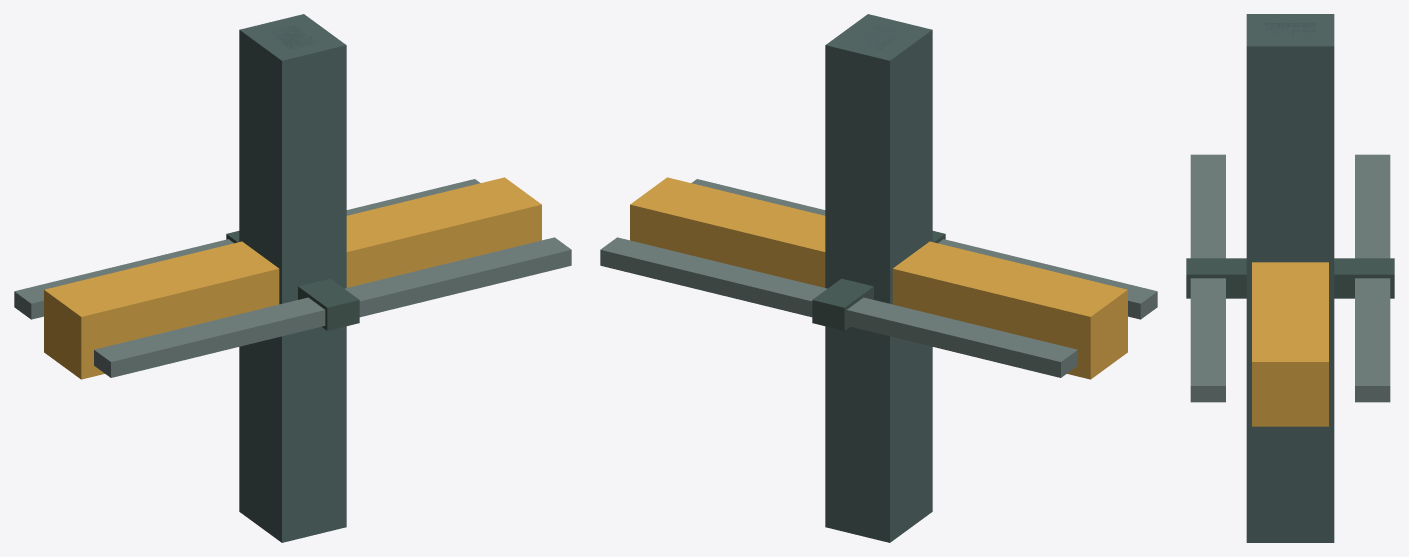
Rendered from WarehouseRecoveryRig.glb.
3 views of the same model, side by side, from view 1: azimuth 30°, elevation 25°; view 2: azimuth 150°, elevation 25°; view 3: azimuth 270°, elevation 25° (orthographic). The views are drawn at different scales.
Parts seen in each view (by area): view 1: Box.106, Box.107, Box.110 (×2), Box.109; view 2: Box.106, Box.107, Box.110 (×2), Box.109; view 3: Box.106, Box.110 (×2), Box.107, Box.109, Box.108.
Boxes of the visible parts, x1,y1,x2,y2 form: Box.106: (239, 14, 346, 542); Box.107: (44, 177, 541, 379); Box.110 (×2): (14, 179, 571, 377); Box.109: (226, 231, 359, 330); Box.106: (825, 14, 932, 542); Box.107: (630, 177, 1127, 379); Box.110 (×2): (600, 179, 1157, 377); Box.109: (812, 231, 945, 330); Box.106: (1246, 14, 1334, 542); Box.110 (×2): (1190, 154, 1390, 402); Box.107: (1252, 262, 1328, 426); Box.109: (1186, 258, 1394, 298); Box.108: (1265, 23, 1315, 35).
Bounding box in the file's own units: 1 × 1 × 0.38.
